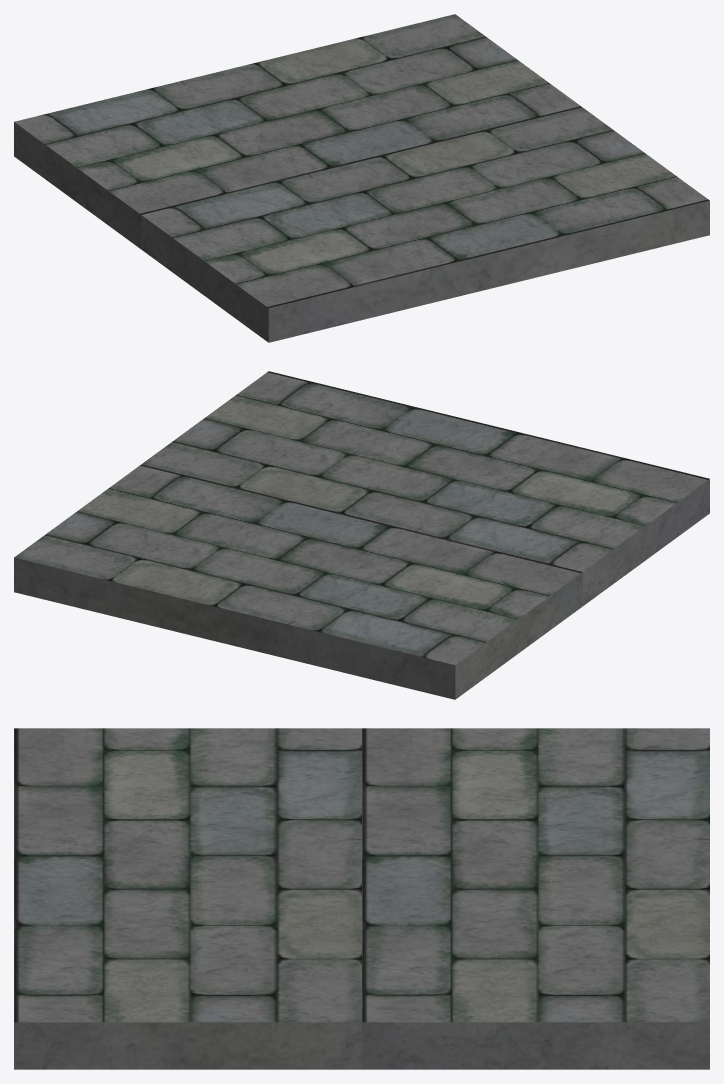
Rendered from floor_large_01.glb.
3 views of the same model, one above another, from view 1: azimuth 30°, elevation 25°; view 2: azimuth 150°, elevation 25°; view 3: azimuth 270°, elevation 25° (orthographic). The views are drawn at different scales.
Parts seen in each view (by area): view 1: floor_large_01; view 2: floor_large_01; view 3: floor_large_01.
Boxes of the visible parts, <box> form: floor_large_01: <box>14,14,709,342</box>; floor_large_01: <box>14,371,709,699</box>; floor_large_01: <box>14,728,709,1069</box>.
Size of the model in its own units: 4 by 0.3 by 4.
Materials: 1 (1 with a texture image).
